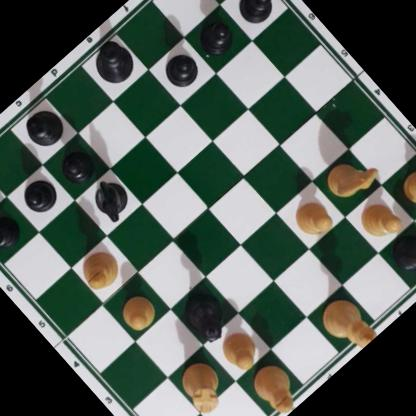black-bishop: (16, 101, 71, 156), (384, 223, 416, 290)
black-king: (82, 33, 142, 92)
black-knight: (83, 172, 137, 228)
black-pawn: (156, 46, 203, 93), (192, 13, 238, 60), (15, 174, 61, 220), (53, 143, 98, 189), (230, 0, 281, 30), (0, 208, 24, 255)
black-queen: (173, 283, 240, 351)
white-bishop: (244, 357, 306, 416), (73, 244, 126, 297)
white-knight: (318, 145, 383, 209)
white-pawn: (351, 192, 407, 248), (213, 325, 266, 378), (287, 194, 336, 243), (114, 290, 162, 337), (395, 161, 416, 213)
white-queen: (314, 291, 380, 359)
white-rook: (171, 353, 233, 416)
